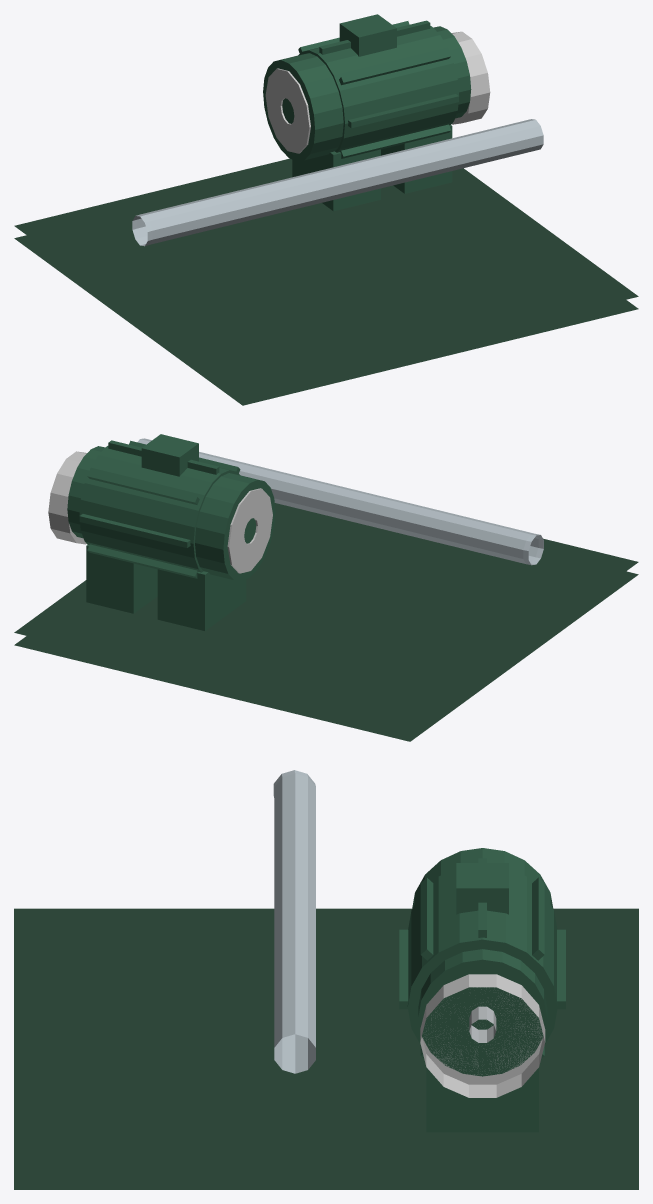
File: cell_7.obj
3 views of the same model, one above another, from view 1: azimuth 30°, elevation 25°; view 2: azimuth 150°, elevation 25°; view 3: azimuth 270°, elevation 25° (orthographic). The views are drawn at different scales.
Size of the model in its own units: 1 by 0.4384 by 1.
